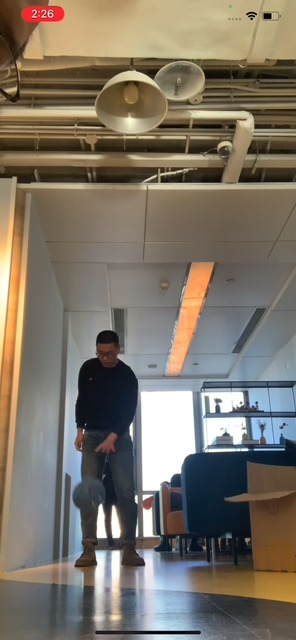ball: (73, 477, 107, 509)
